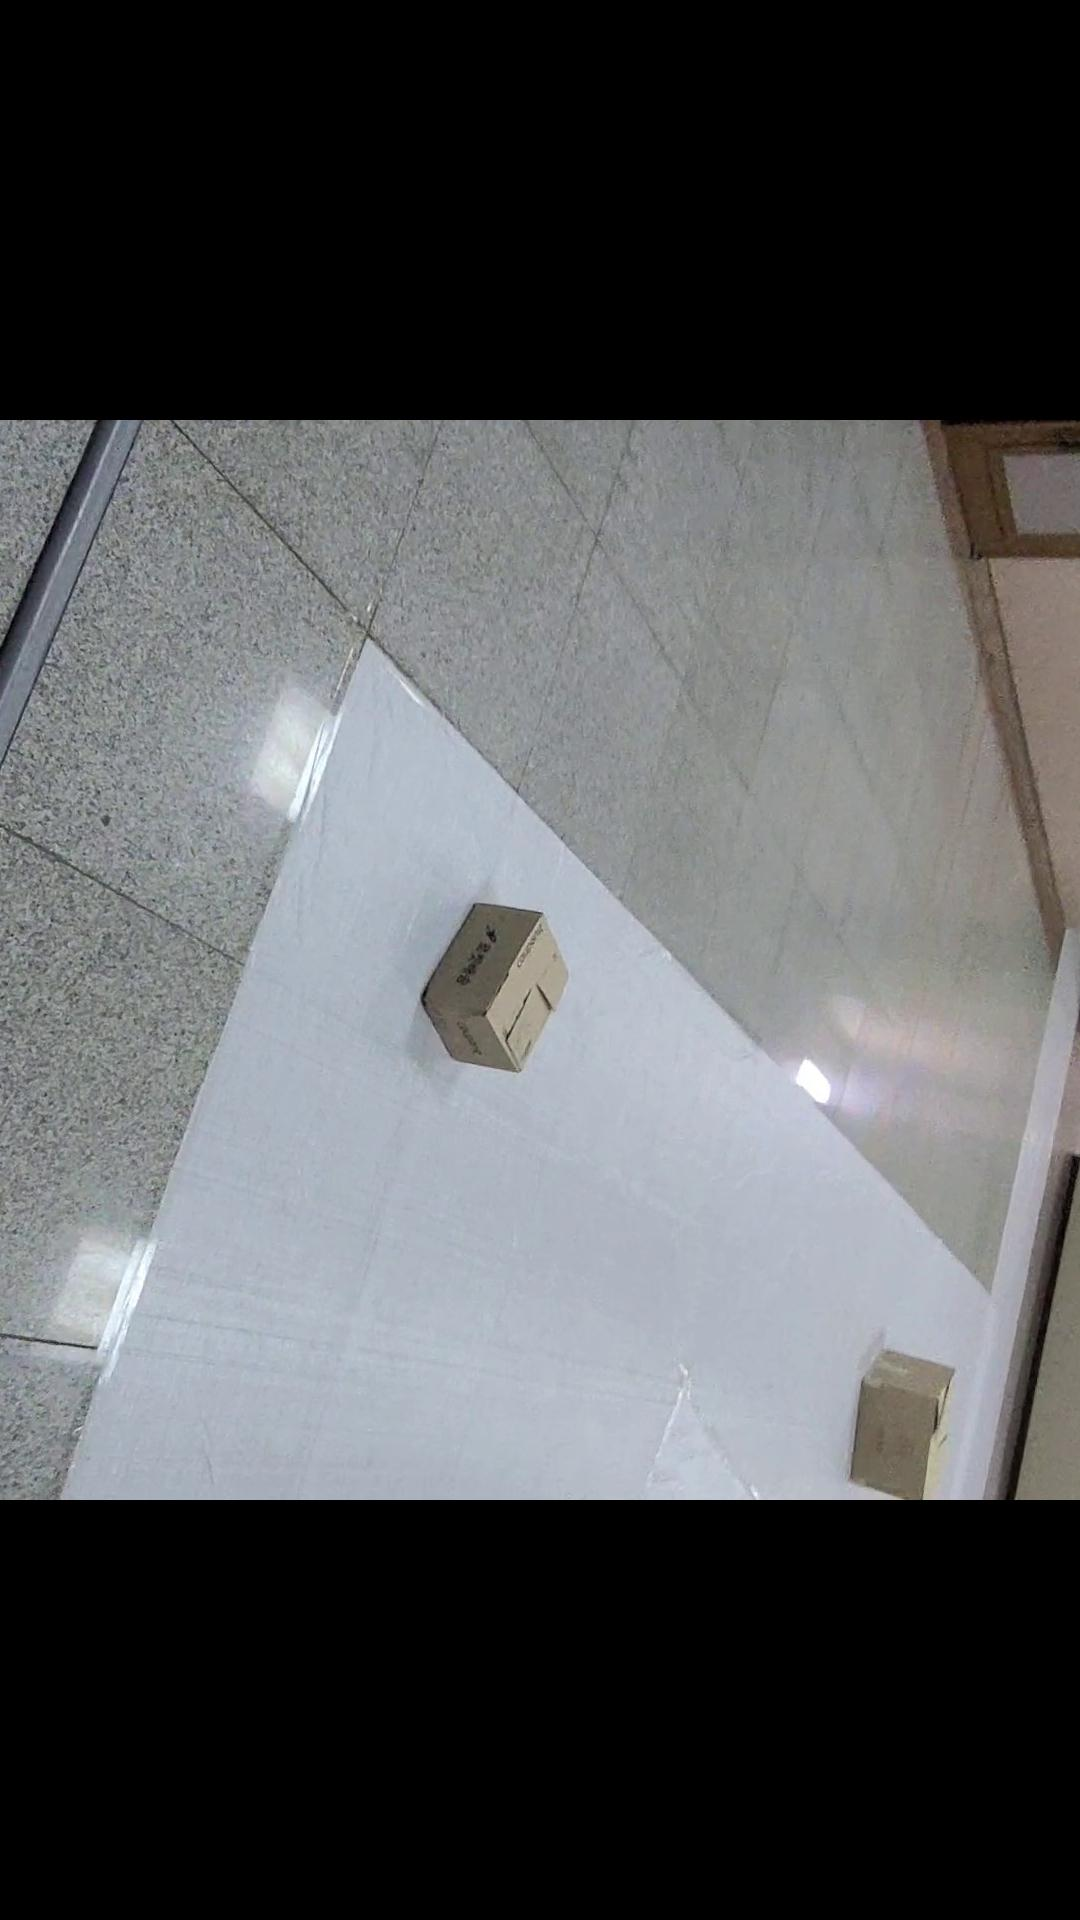Box: (429, 886, 564, 1087), (837, 1352, 980, 1495)
